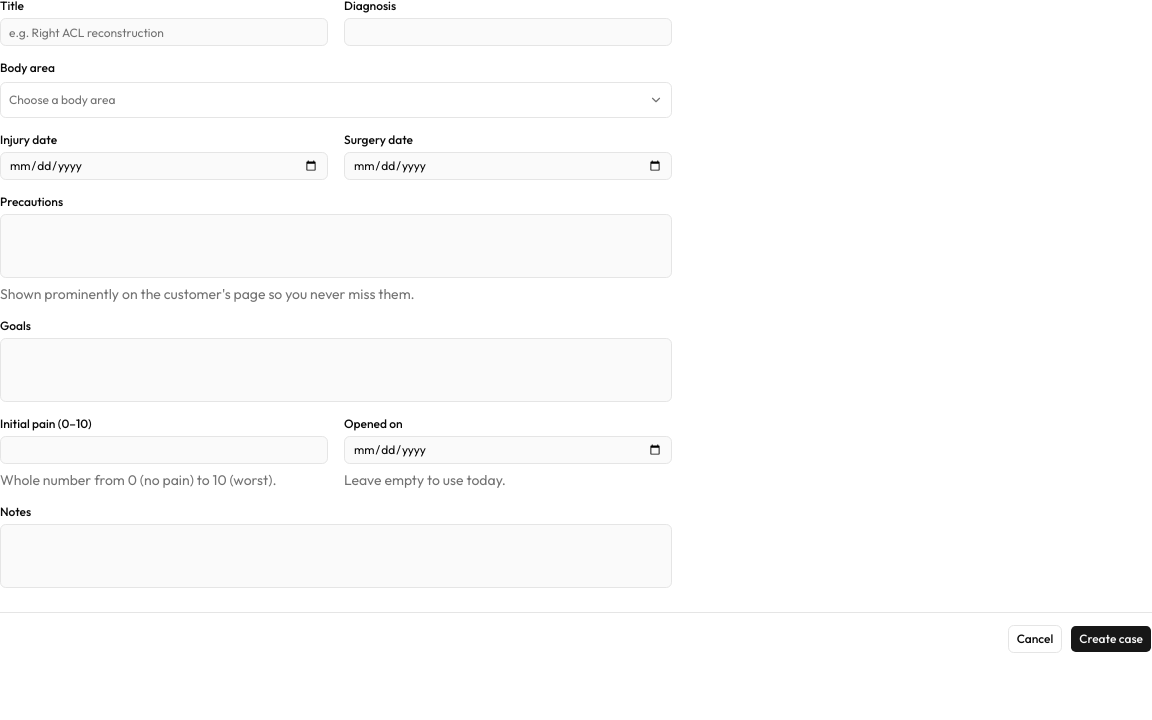
CaseForm › uses a single-select body area picker without full body
Click the button "Body area Choose a body area": (61, 109) [0,82,672,118]
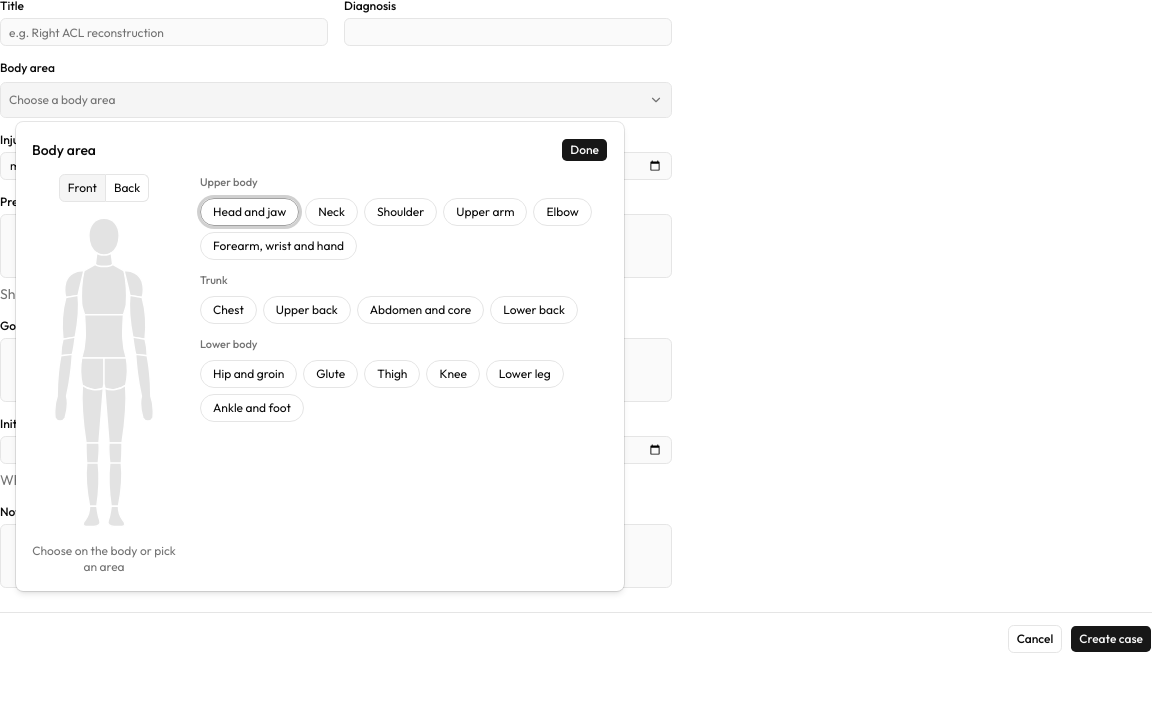
expect the radio button labelled "Knee" is shown: met, box [426,360,480,388]
